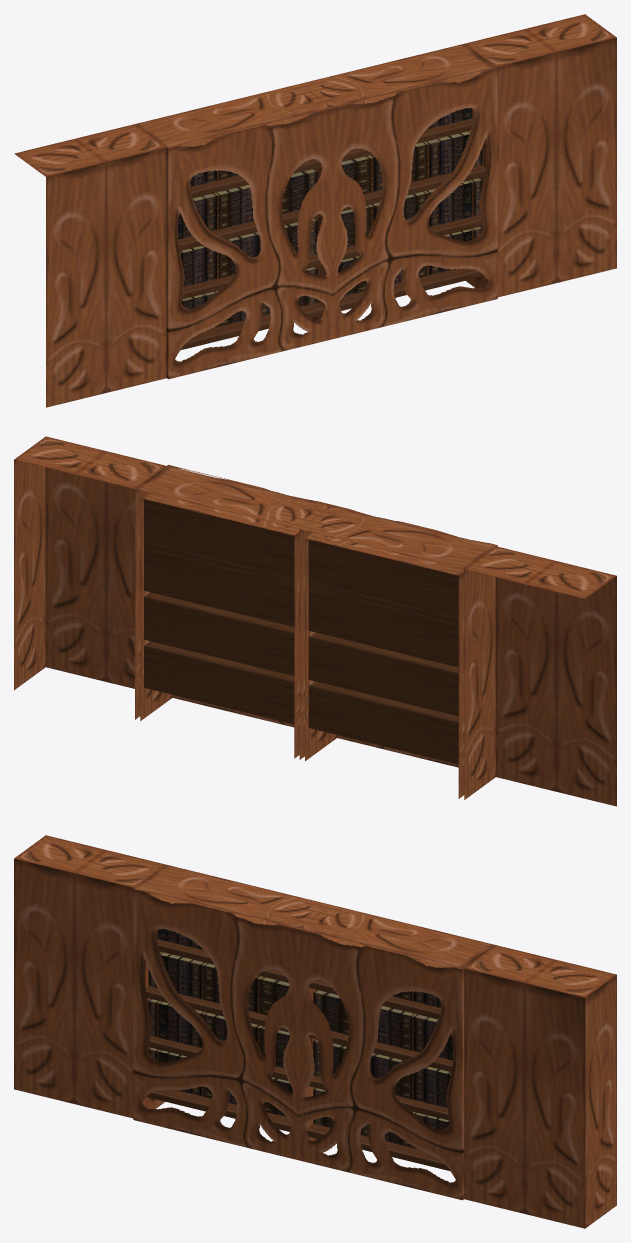
Rendered from EKH_GROTTO_PS_GR_BOOKC3635__GX.obj.
3 renders of one model, top to bottom at view 1: azimuth 30°, elevation 25°; view 2: azimuth 150°, elevation 25°; view 3: azimuth 330°, elevation 25°, orthographic.
Visible parts, largest first — view 1: R_BookC3635__GX; view 2: R_BookC3635__GX; view 3: R_BookC3635__GX.
Boxes of the visible parts, <box> form: R_BookC3635__GX: <box>14,14,616,407</box>; R_BookC3635__GX: <box>14,436,616,806</box>; R_BookC3635__GX: <box>14,835,616,1228</box>.
Bounding box in the file's own units: 544 × 210 × 55.04.
